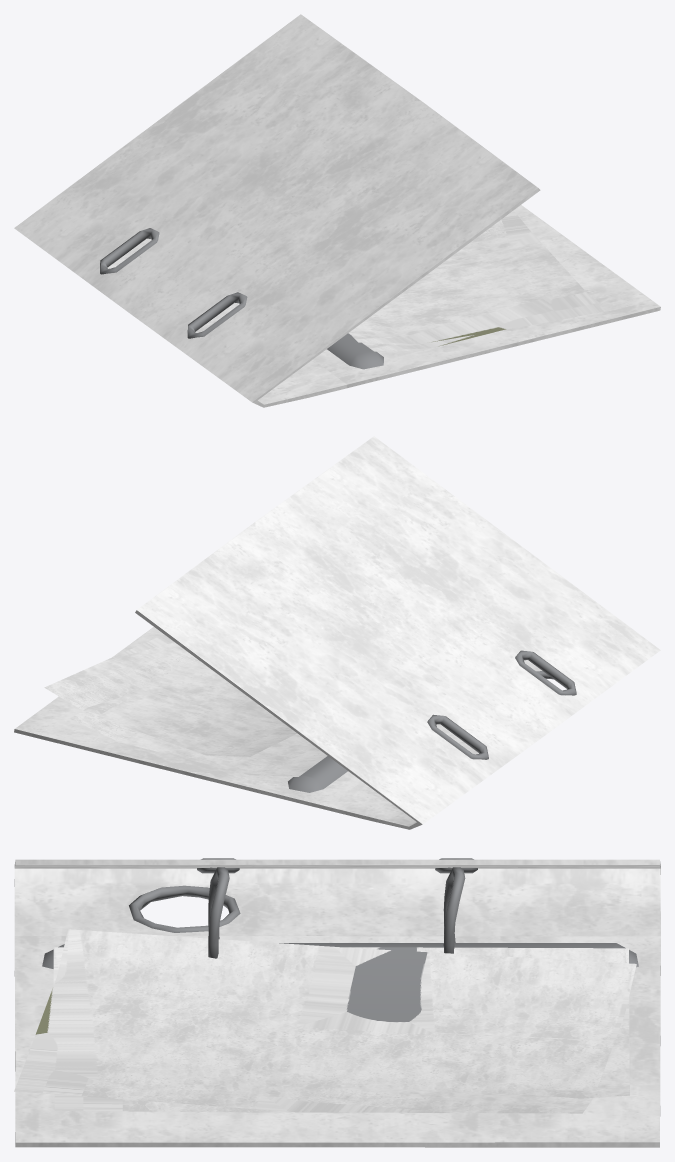
File: SM_Folder3.fbx
The picture shows the model from 3 angles, top to bottom: view 1: azimuth 30°, elevation 25°; view 2: azimuth 150°, elevation 25°; view 3: azimuth 270°, elevation 25°; orthographic projection. The views are drawn at different scales.
Visible parts, largest first — view 1: SM_Folder3_LOD0; view 2: SM_Folder3_LOD0; view 3: SM_Folder3_LOD0.
Boxes of the visible parts, x1=… form: SM_Folder3_LOD0: x1=14, y1=14, x2=660, y2=407; SM_Folder3_LOD0: x1=14, y1=436, x2=660, y2=829; SM_Folder3_LOD0: x1=14, y1=858, x2=660, y2=1147.
Bounding box in the file's own units: 47.8 × 48.17 × 17.36.
Materials: 1 (1 with a texture image).
